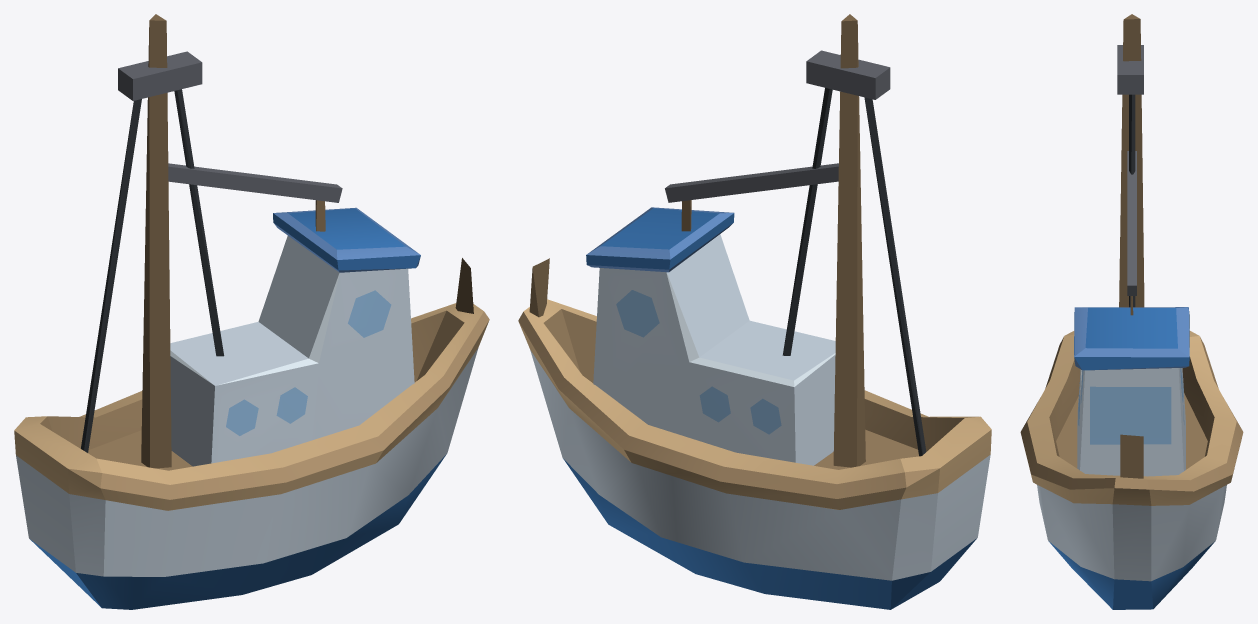
Rendered from RW_HG_Vehicle_Ship.002.fbx.
The picture shows the model from 3 angles, left to right: view 1: azimuth 30°, elevation 25°; view 2: azimuth 150°, elevation 25°; view 3: azimuth 270°, elevation 25°; orthographic projection. The views are drawn at different scales.
Visible parts, largest first — view 1: RW_HG_Vehicle_Ship.002; view 2: RW_HG_Vehicle_Ship.002; view 3: RW_HG_Vehicle_Ship.002.
Boxes of the visible parts, <box> form: RW_HG_Vehicle_Ship.002: <box>14,14,489,609</box>; RW_HG_Vehicle_Ship.002: <box>518,14,991,609</box>; RW_HG_Vehicle_Ship.002: <box>1020,14,1243,609</box>.
Size of the model in its own units: 2.18 by 2.66 by 1.08.
